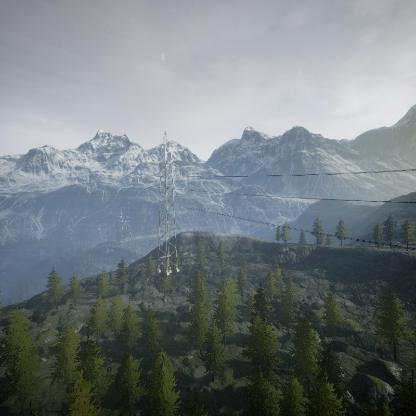tower: (149, 131, 184, 276)
